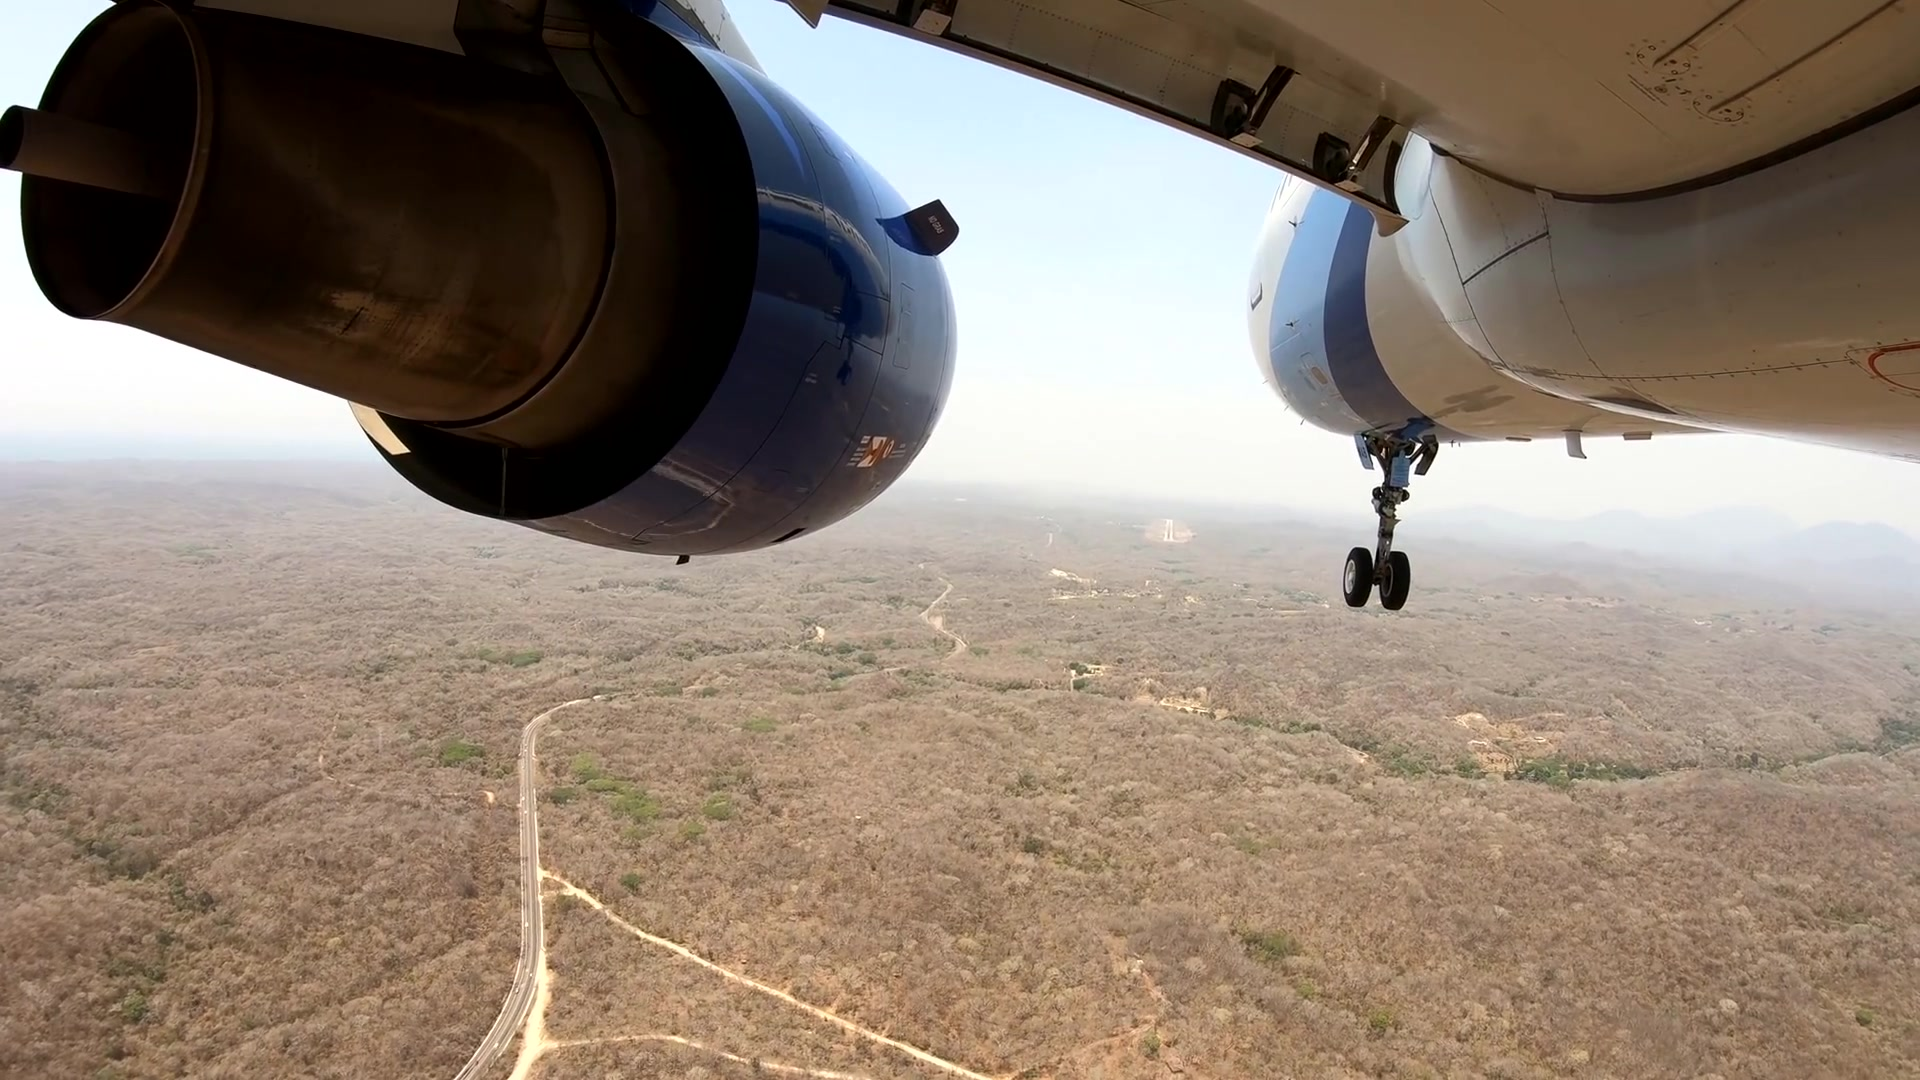runway: (1158, 517, 1180, 545)
